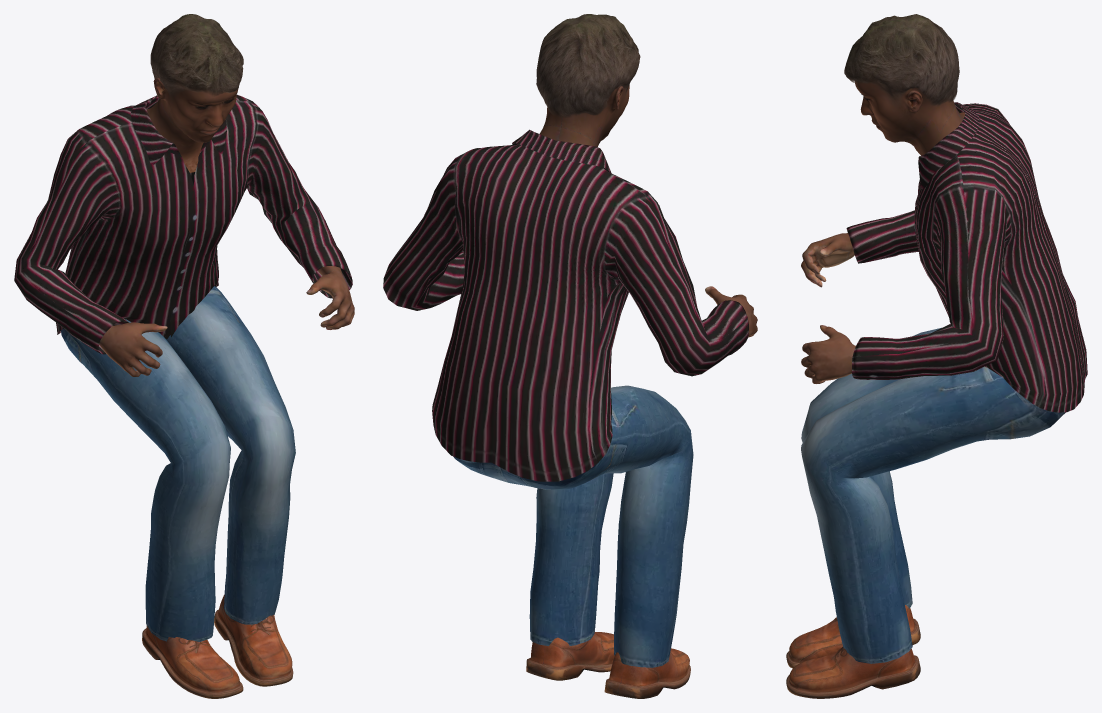
File: uomo-02.glb
3 views of the same model, side by side, from view 1: azimuth 30°, elevation 25°; view 2: azimuth 150°, elevation 25°; view 3: azimuth 270°, elevation 25° (orthographic). The views are drawn at different scales.
Visible parts, largest first — view 1: Human.male_casualsuit03, Human, Human.shoes01, Human.short02; view 2: Human.male_casualsuit03, Human.short02, Human.shoes01, Human; view 3: Human.male_casualsuit03, Human, Human.short02, Human.shoes01.
Boxes of the visible parts, box(x1,y1,x2,y2) form: Human.male_casualsuit03: box(14, 94, 352, 641); Human: box(99, 77, 354, 376); Human.shoes01: box(142, 594, 293, 698); Human.short02: box(150, 14, 243, 99); Human.male_casualsuit03: box(383, 129, 748, 667); Human.short02: box(536, 14, 640, 117); Human.shoes01: box(526, 632, 690, 698); Human: box(539, 85, 757, 337); Human.male_casualsuit03: box(801, 102, 1087, 663); Human: box(801, 81, 964, 383); Human.short02: box(844, 14, 959, 105); Human.shoes01: box(786, 605, 920, 698).
Bounding box in the file's own units: 0.7332 × 1.49 × 0.6219.
12 materials, 12 textured.
